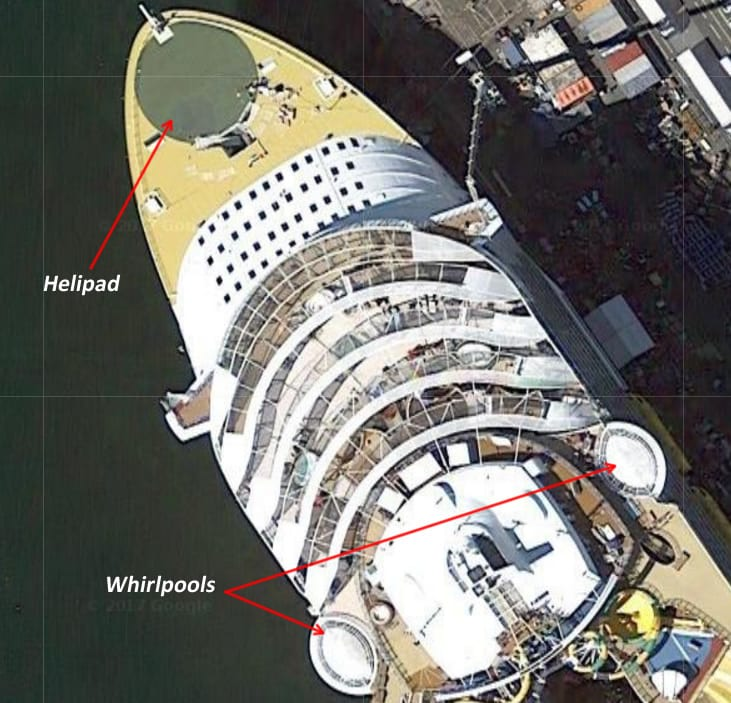ship: (87, 24, 731, 694)
